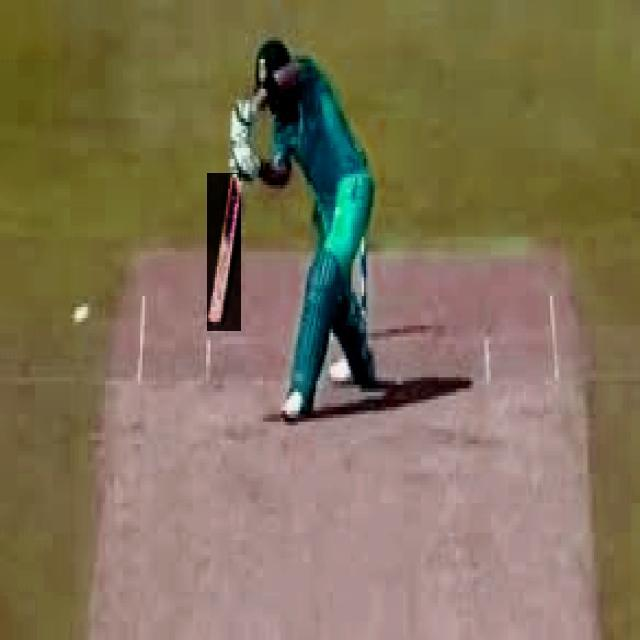bat: (206, 173, 245, 331)
toe: (204, 318, 227, 327)
